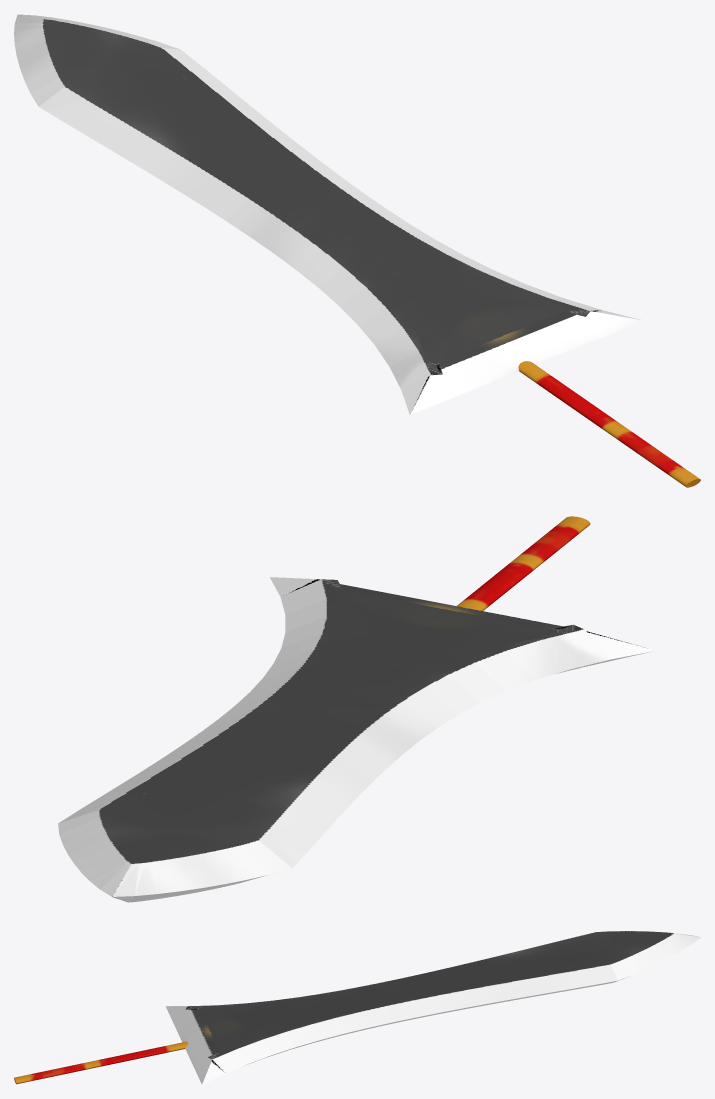
The model's file is sword.obj.
The picture shows the model from 3 angles, top to bottom: view 1: azimuth 30°, elevation 25°; view 2: azimuth 150°, elevation 25°; view 3: azimuth 270°, elevation 25°; orthographic projection. The views are drawn at different scales.
Visible parts, largest first — view 1: Sword; view 2: Sword; view 3: Sword.
Boxes of the visible parts, <box> form: Sword: <box>14,14,700,487</box>; Sword: <box>58,516,655,902</box>; Sword: <box>14,931,700,1084</box>.
Size of the model in its own units: 1.4 by 0.6265 by 3.98.
1 material, 1 textured.
